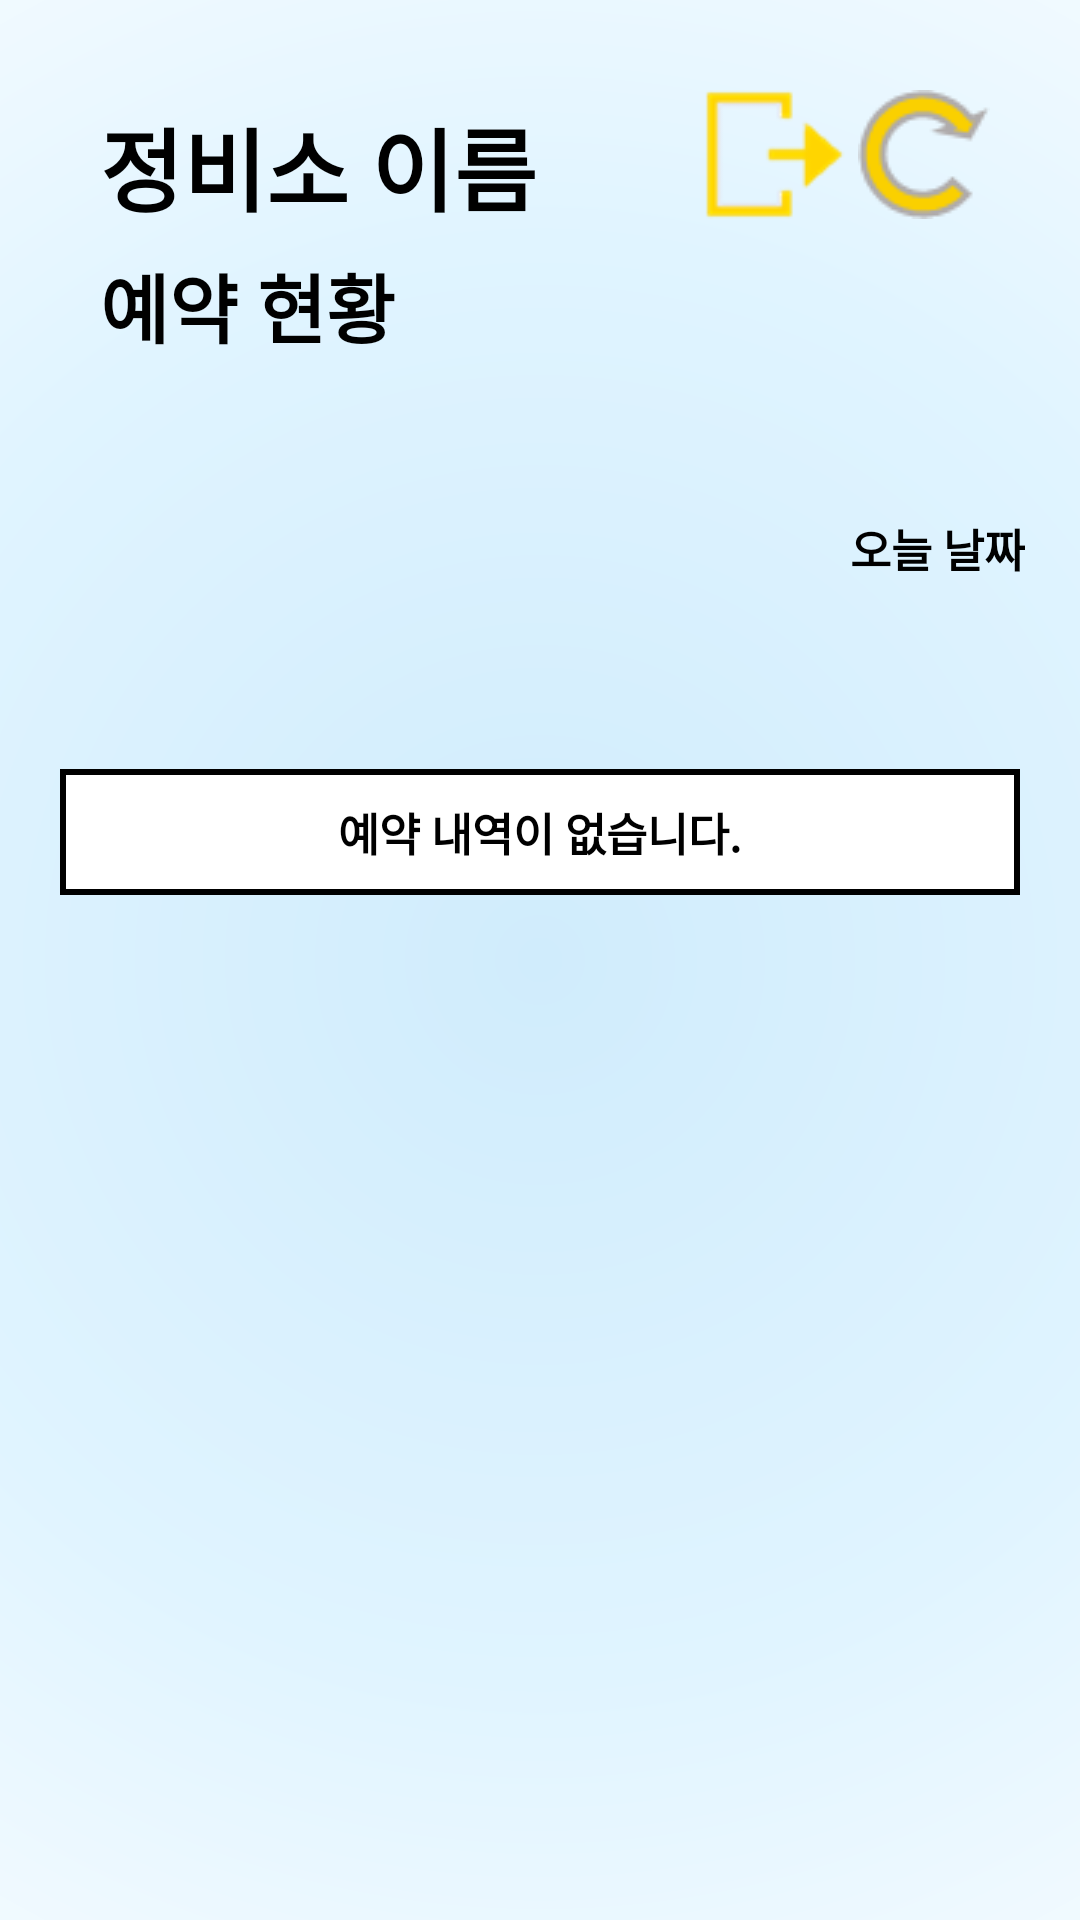

Locate icon controls on the screen. Image size 1080 x 1920, boxes as (x1, y1, x2, y2).
loading: (858, 90, 987, 219)
out: (706, 91, 843, 218)
